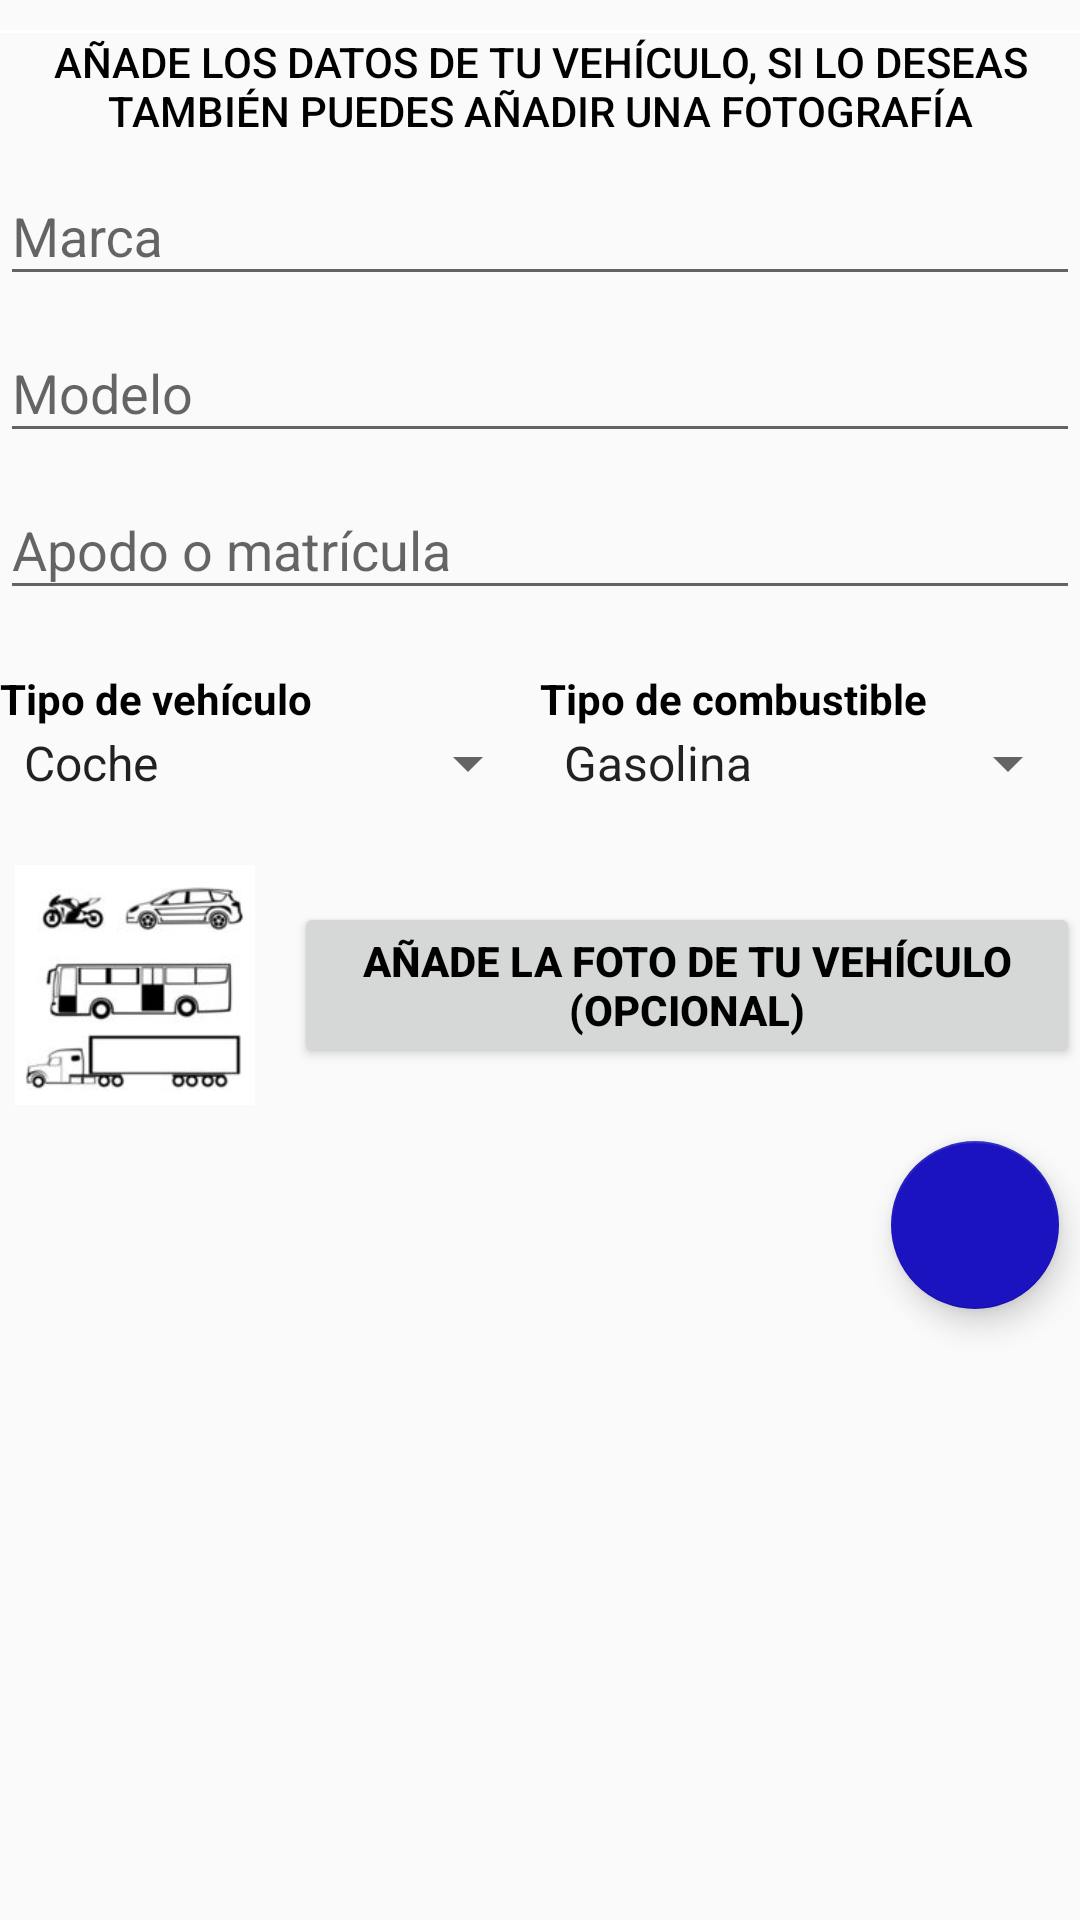

Named icons in this screenshot (1080 x 1920) and their centers, [x,y]:
siluetas vehiculos: [134,988]
